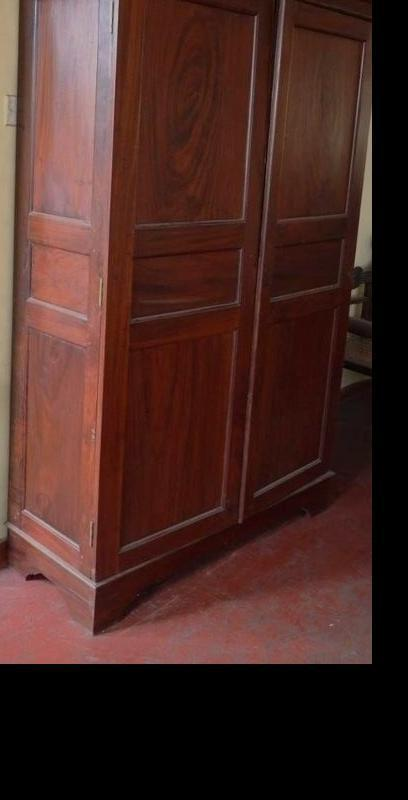Armario: (0, 0, 350, 629)
